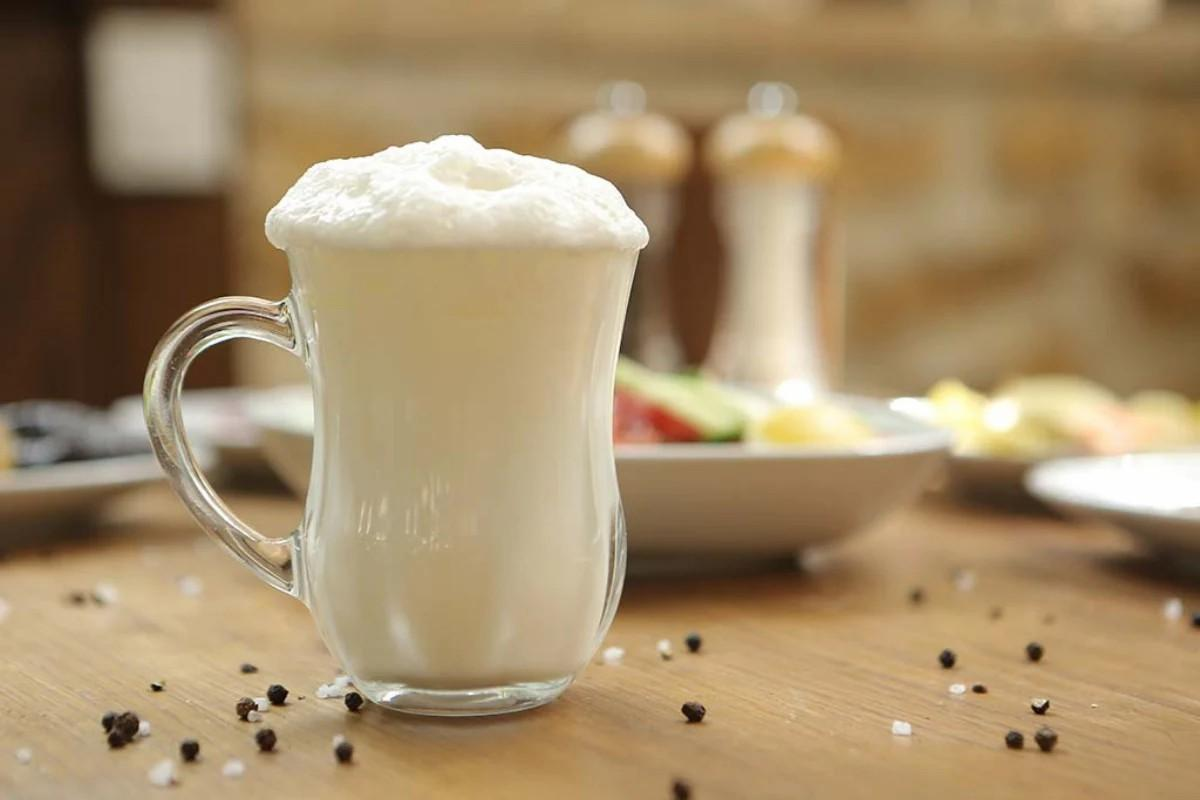Lassi: (267, 136, 647, 682)
